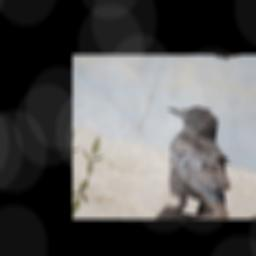Crow: (137, 97, 256, 217)
